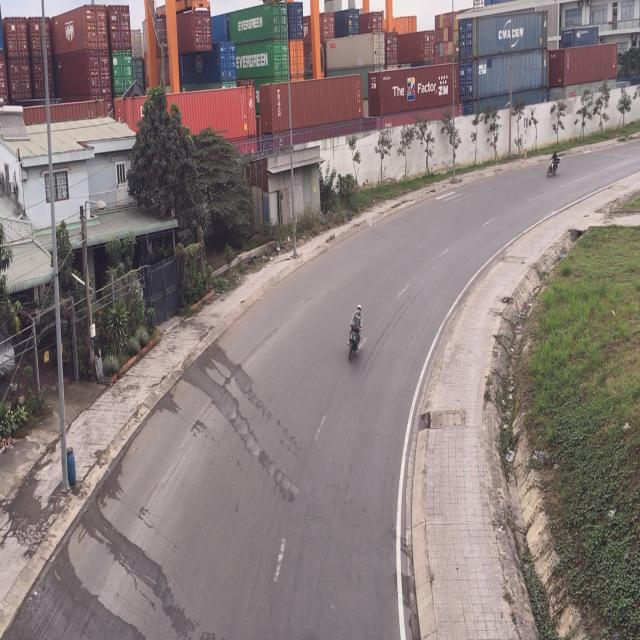motorbike: (347, 306, 364, 366), (546, 147, 561, 180)
